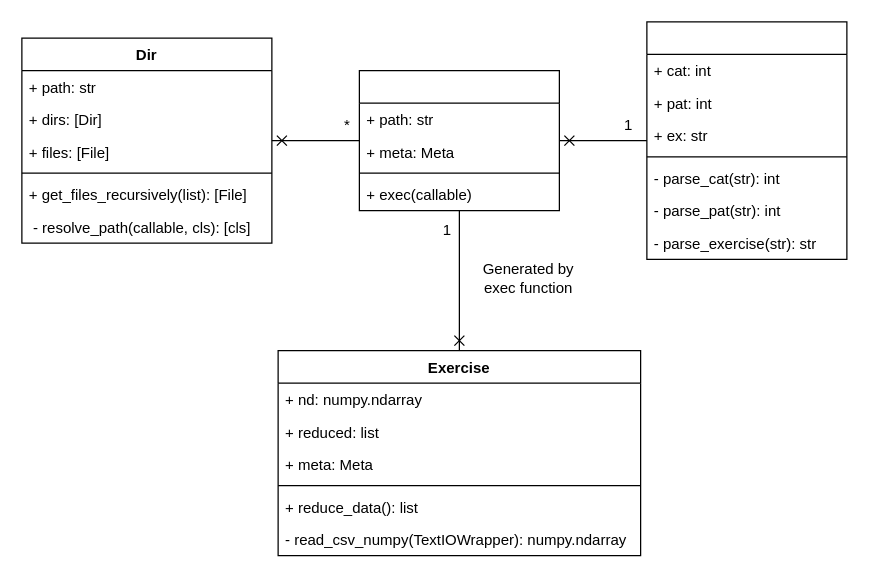
Image size: 869x581. Some labels were removed from this diagram. The shapes that lost their labels are listed below. From the top down, each one's box as (x1, y1, x2, y2) in pixels, then its label:
(358, 69, 559, 211): File
(646, 21, 847, 259): Meta
